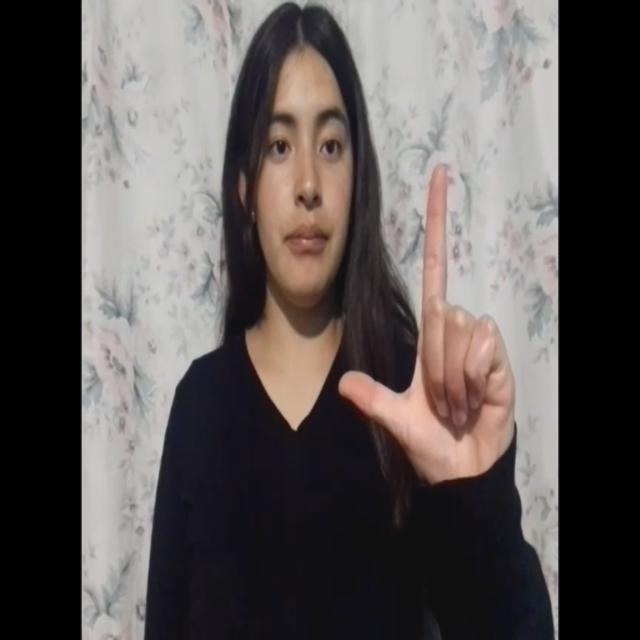L: (334, 150, 526, 475)
